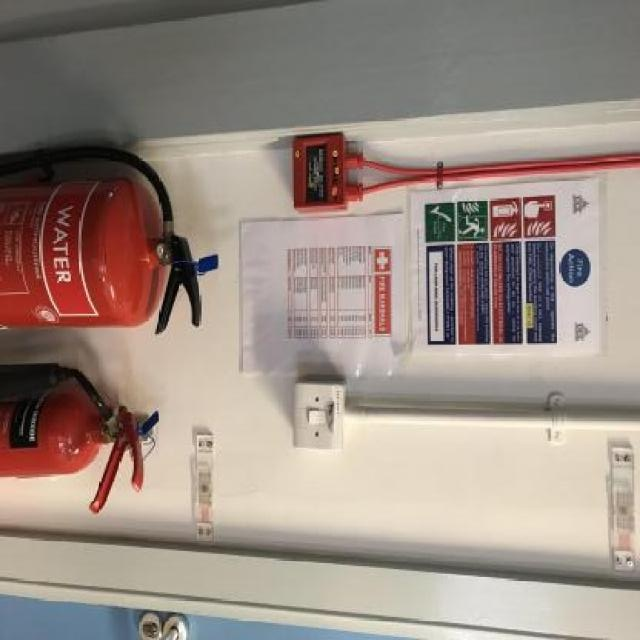fire extinguisher: (0, 140, 220, 332), (0, 366, 145, 514)
